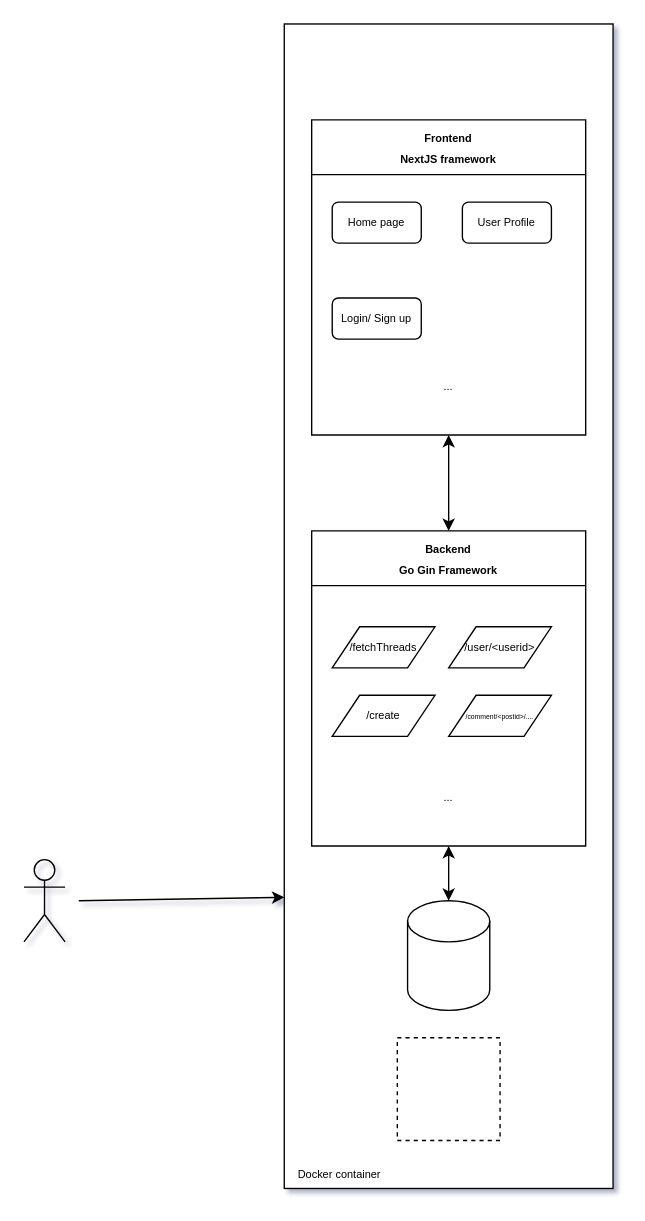
Some shapes in this 645 by 1221 pixel diagram are drawn without their labels. Here are the shapes that lost their labels. From the top down, the centre of each, then its label:
the point at 44,900: User
the point at 448,954: PGSQL
the point at 448,1088: users threads comments tags ...
